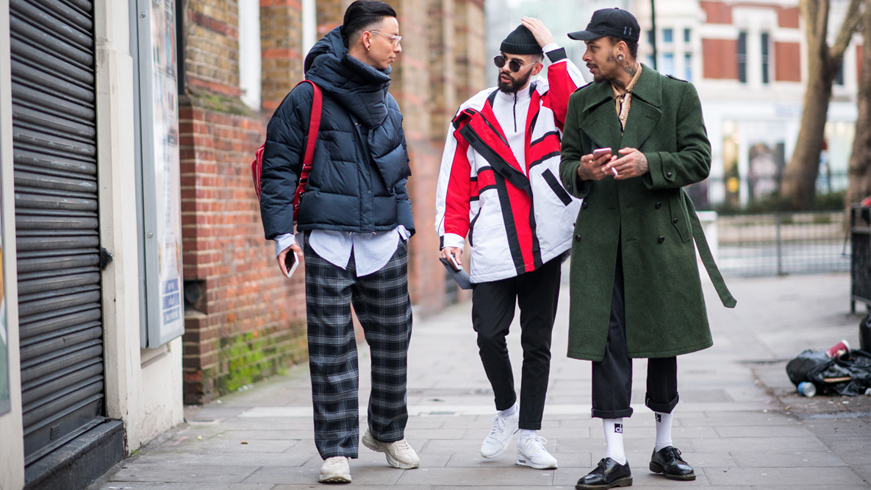Person: (561, 8, 736, 490), (261, 1, 420, 483), (435, 15, 564, 470)
